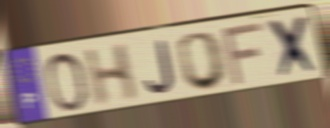F: (220, 19, 266, 90)
H: (82, 41, 140, 110)
J: (143, 38, 176, 95)
O: (175, 29, 230, 92), (43, 50, 90, 114)
X: (266, 12, 322, 83)
